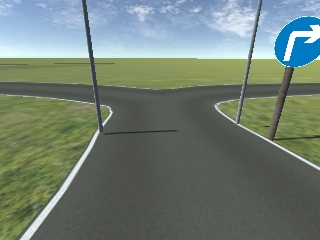right: (274, 17, 320, 66)
